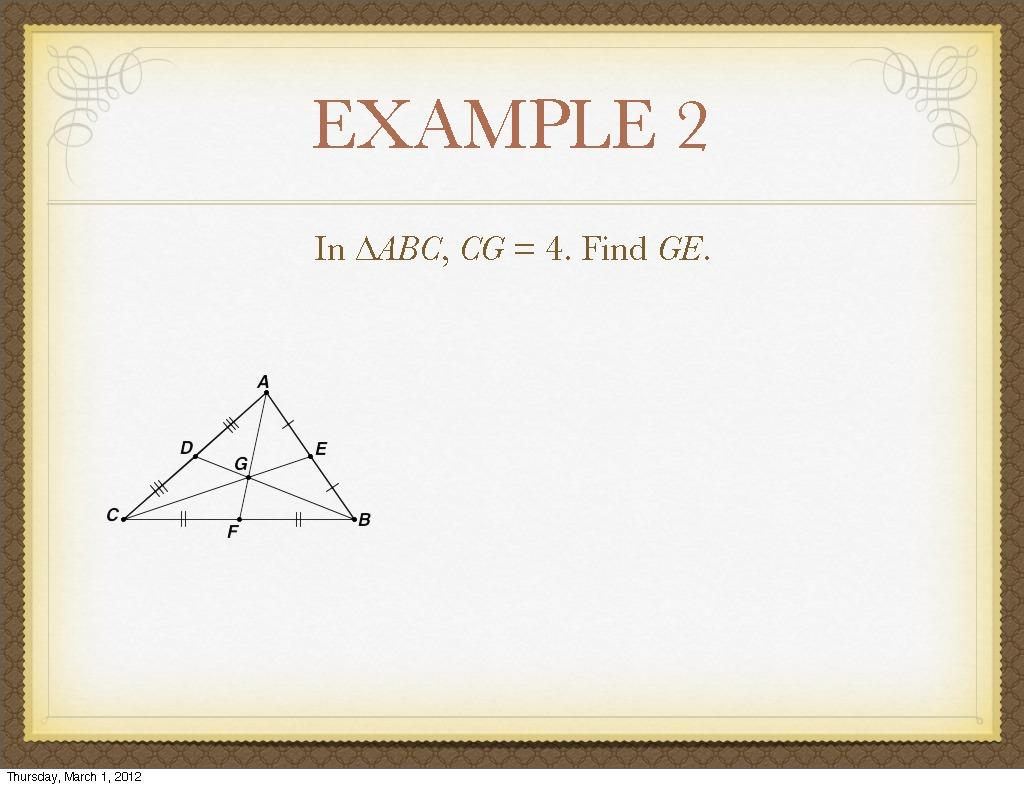paragraph: (100, 205, 898, 279)
title: (296, 70, 737, 189)
